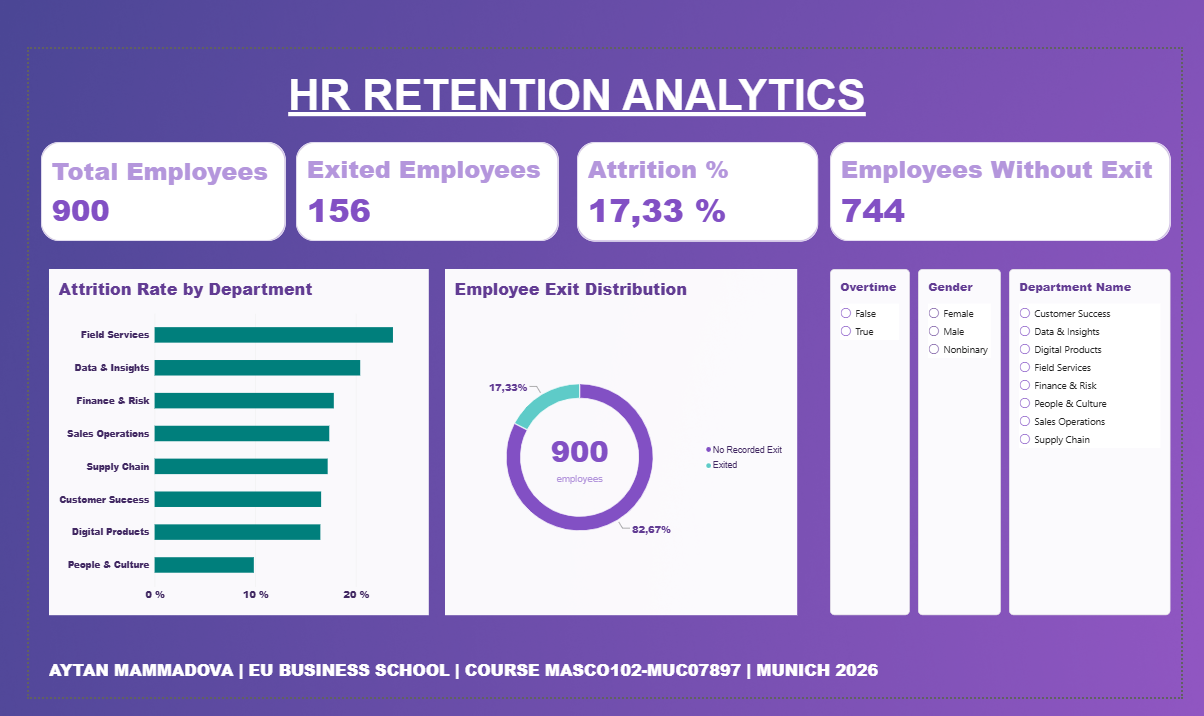

The page's visual inventory and layout, read from the dashboard file:
{"tool":"powerbi","page":{"name":"Retention Analytics","canvas":[1920,1080],"ordinal":0},"visuals":[{"type":"cardVisual","title":"TOTAL EMPLOYEES NUMBETR","fields":{"Data":["public vw_employee_retention.Total Employees"]},"box":[20,155,407.5,165],"z":0},{"type":"textbox","box":[77.5,35,1670,120],"z":1000},{"type":"cardVisual","fields":{"Data":["public vw_employee_retention.Exited Employees"]},"box":[445,155,437.5,165],"z":2000},{"type":"cardVisual","fields":{"Data":["public vw_employee_retention.Attrition %"]},"box":[912.5,155,402.2,165.6],"z":3000},{"type":"cardVisual","fields":{"Data":["public vw_employee_retention.Employees Without Exit"]},"box":[1335,155,567.5,165],"z":4000},{"type":"clusteredBarChart","title":"Attrition Rate by Department ","fields":{"Category":["public vw_employee_retention.department_name"],"Y":["public vw_employee_retention.Attrition %"]},"box":[33.3,366.7,633.3,576.7],"z":5000},{"type":"donutChart","title":"Employee Exit Distribution","fields":{"Category":["public vw_employee_retention.Exit Status"],"Y":["public vw_employee_retention.Total Employees"]},"box":[693.3,366.7,586.7,576.7],"z":6000},{"type":"listSlicer","title":"Gender","fields":{"Values":["public vw_employee_retention.gender"]},"box":[1481,367,138,577],"z":6002},{"type":"listSlicer","title":"Overtime","fields":{"Values":["public vw_employee_retention.overtime"]},"box":[1334.3,367.1,132.9,577.1],"z":6003},{"type":"listSlicer","title":"Department Name","fields":{"Values":["public vw_employee_retention.department_name"]},"box":[1634,367,269,577],"z":6004},{"type":"textbox","box":[33.3,1016.7,1868.3,51.7],"z":6005}]}

Visuals, with their boxes in screenshot pixels (x1, y1, x2, y2):
"TOTAL EMPLOYEES NUMBETR" cardVisual: box(43, 139, 286, 238)
textbox: box(78, 68, 1074, 139)
cardVisual - public vw_employee_retention.Exited Employees: box(297, 139, 558, 238)
cardVisual - public vw_employee_retention.Attrition %: box(576, 139, 816, 238)
cardVisual - public vw_employee_retention.Employees Without Exit: box(828, 139, 1166, 238)
"Attrition Rate by Department " clusteredBarChart: box(51, 266, 429, 610)
"Employee Exit Distribution" donutChart: box(445, 266, 795, 610)
"Gender" listSlicer: box(915, 266, 997, 610)
"Overtime" listSlicer: box(827, 266, 907, 610)
"Department Name" listSlicer: box(1006, 266, 1166, 610)
textbox: box(51, 653, 1166, 684)
